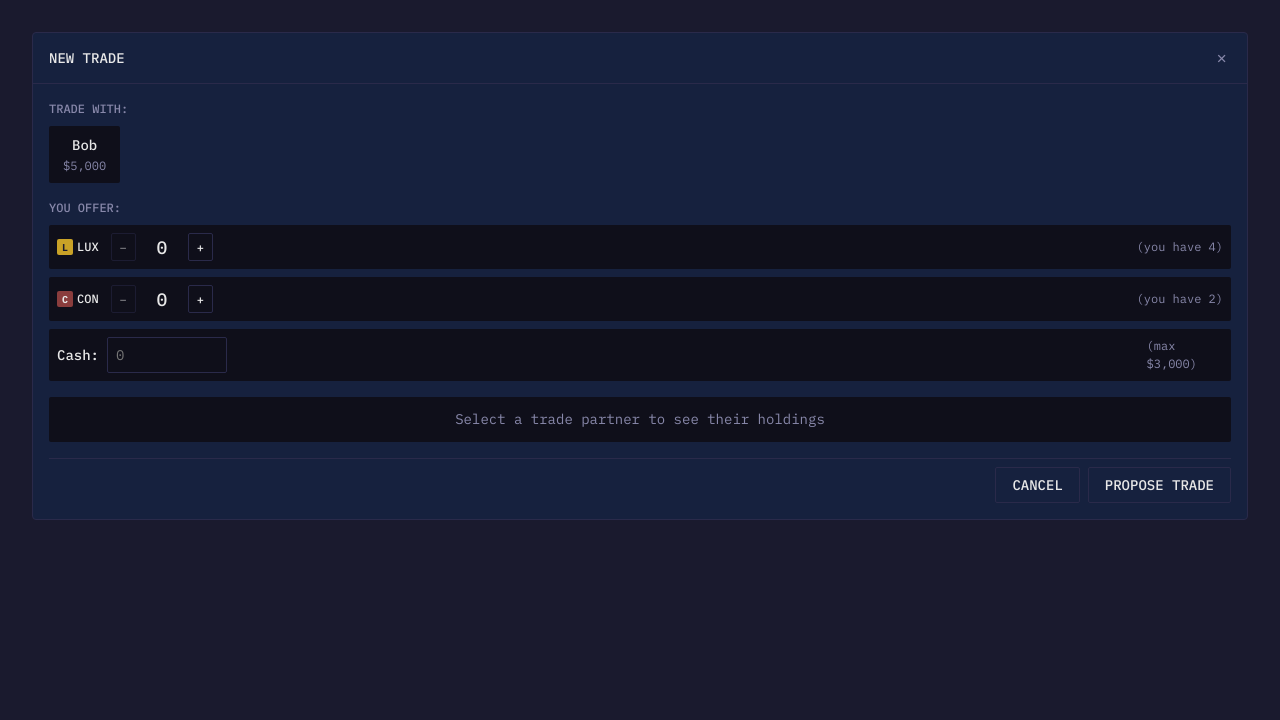
TradeBuilder › edge cases › handles player with no stocks
The image size is (1280, 720).
Click the button with test id "player-select-player-2": (85, 154) [49, 126, 120, 183]
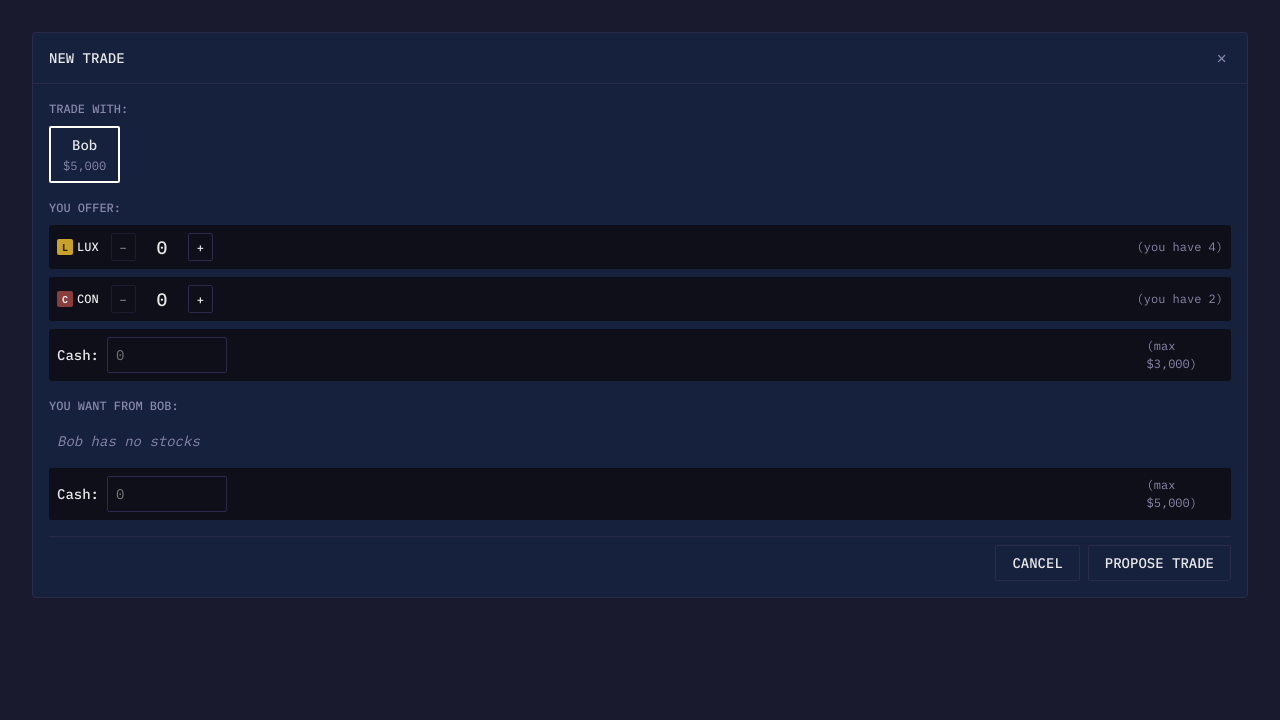
Check: the text "Bob has no stocks" is shown, box [57, 432, 200, 450]
